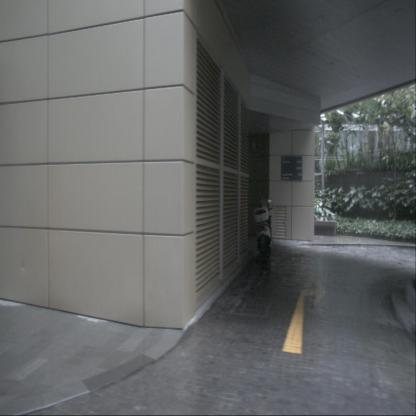vehicle-motorcycle: (252, 199, 274, 264)
